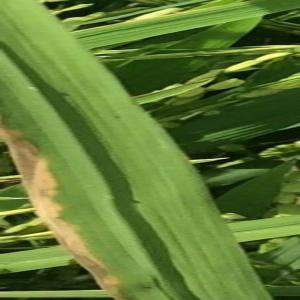Bacterial_Blight: (9, 82, 174, 300)
